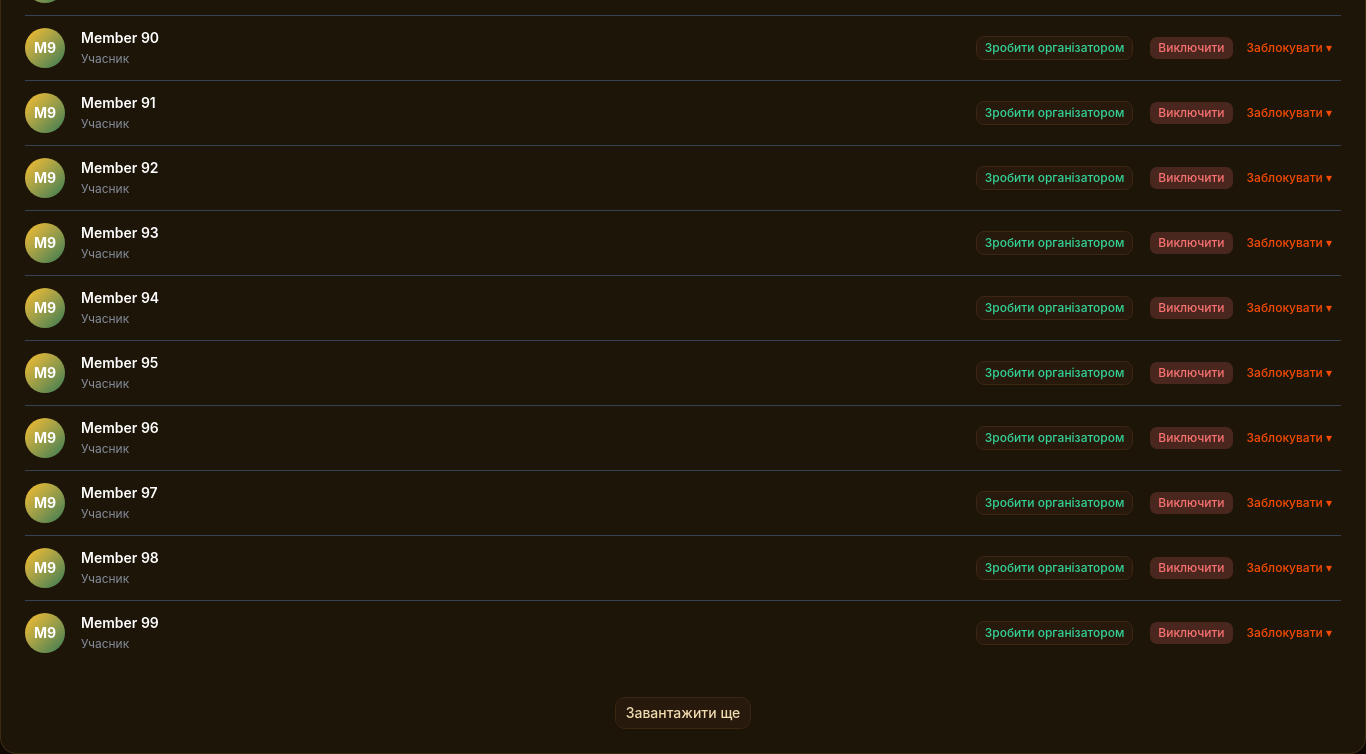
Test: MemberList with role controls › shows an error and keeps load more available when a page fails
This screenshot has width=1366, height=754.
(page scrolled)
Click the button "Завантажити ще": (683, 713) [615,697,751,729]
(page scrolled)
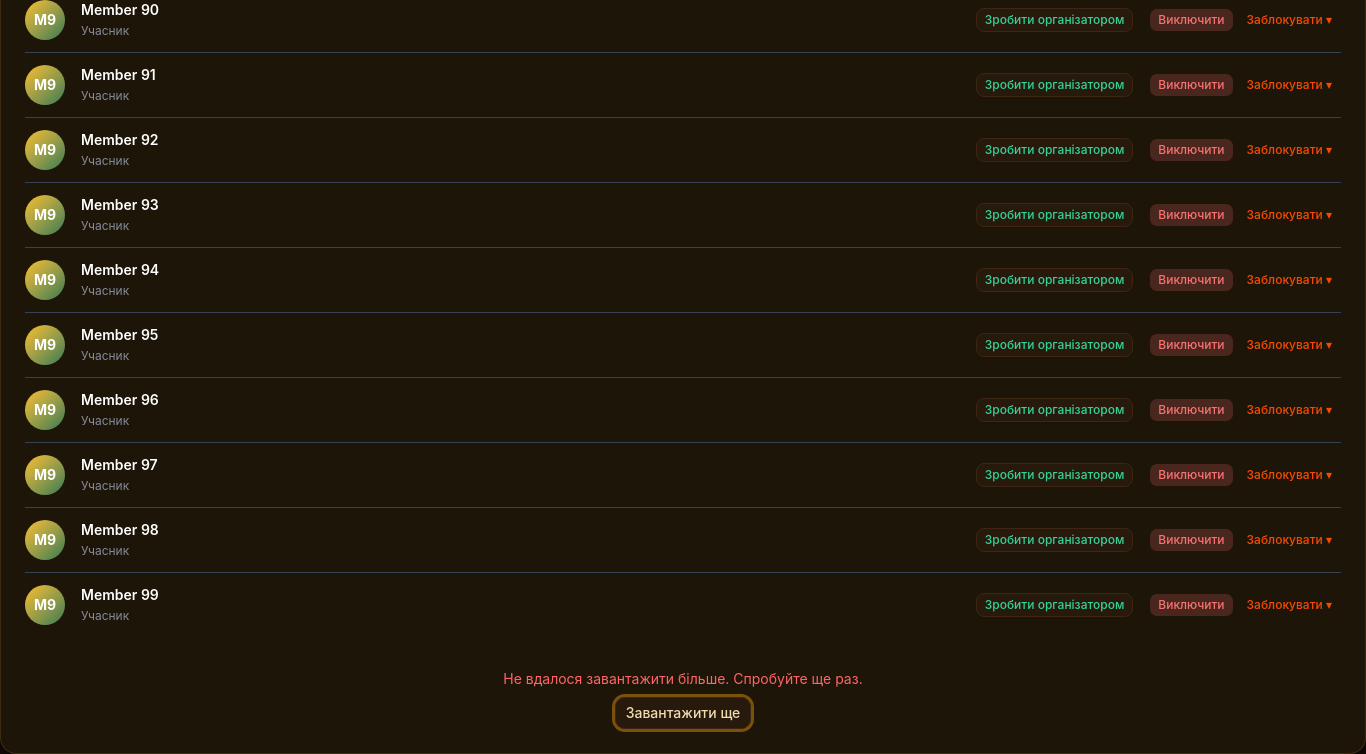
Check: the text "Не вдалося завантажити більше. Спробуйте ще раз." is shown, box [503,669,863,689]
Click the button "Завантажити ще": (683, 713) [615,697,751,729]
(page scrolled)
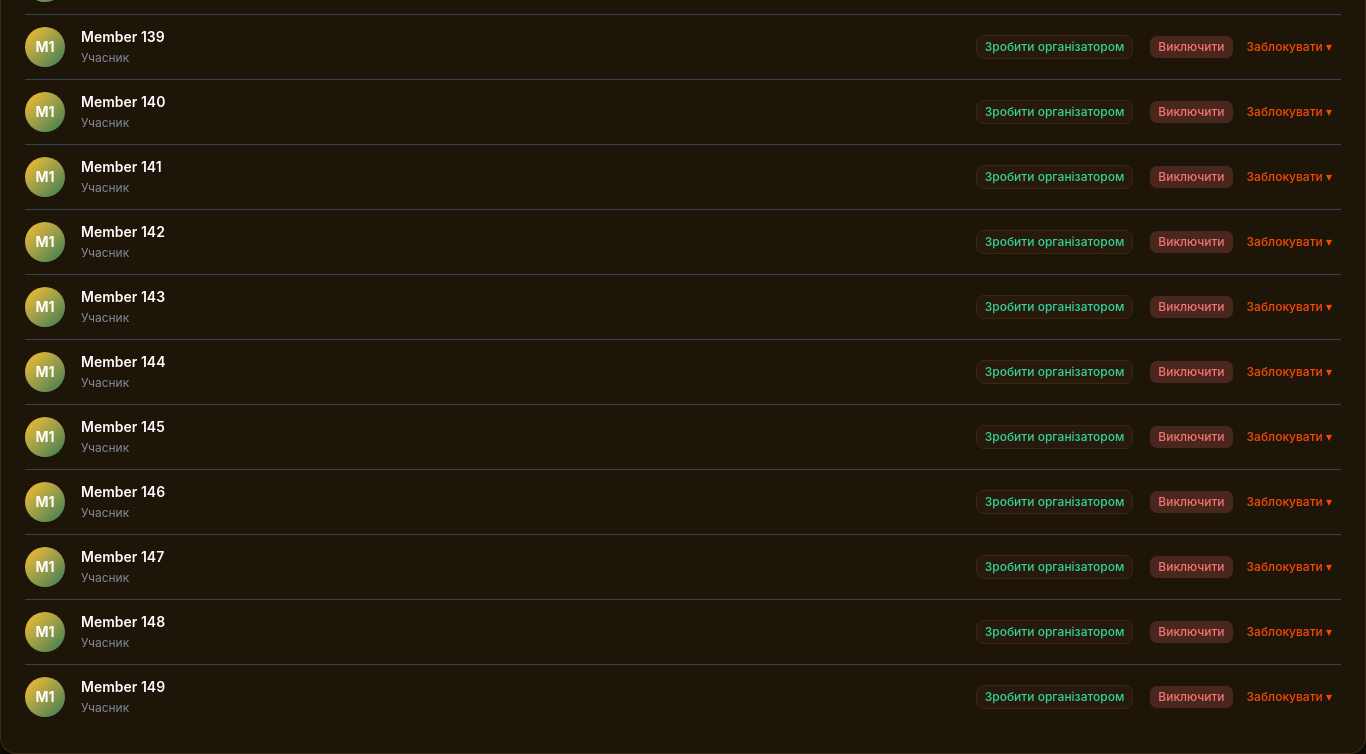
Check: the text "Member 149" is shown, box [81,678,165,695]
